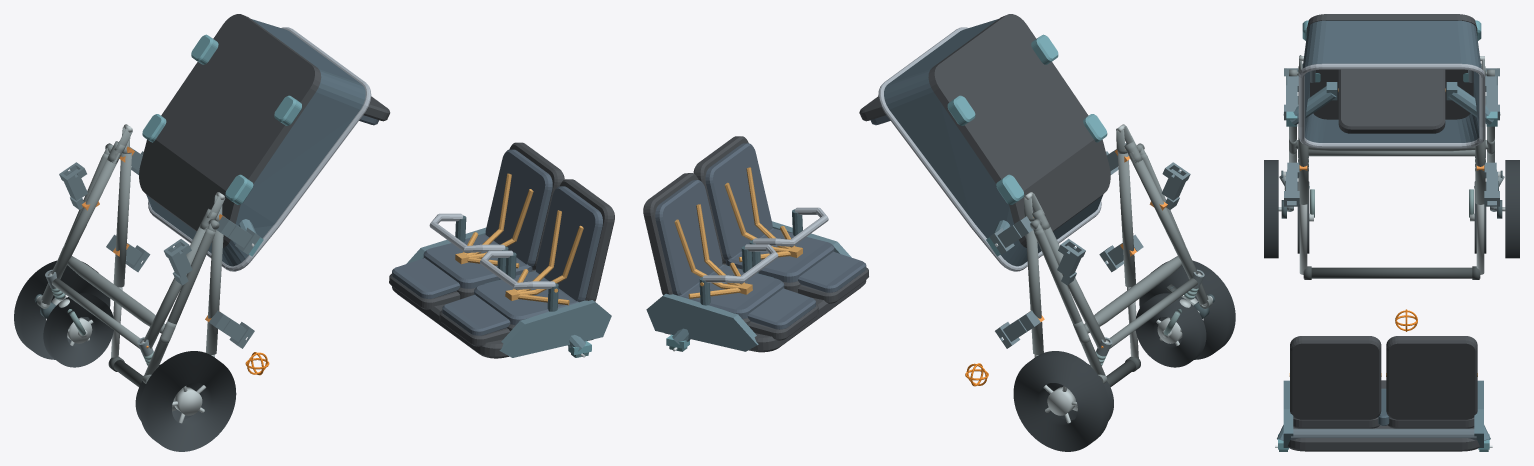
The model's file is D29_w650_state3_wheel_M.glb.
3 views of the same model, side by side, from view 1: azimuth 30°, elevation 25°; view 2: azimuth 150°, elevation 25°; view 3: azimuth 270°, elevation 25° (orthographic). The views are drawn at different scales.
Parts seen in each view (by area): view 1: D29_Lower, D29_Upper, RL_tire.011, FR_tire.011, RR_tire.011, main_upper_1.012, V46_rearbar.011, main_lower_1.012, V46_rear_leg_-1.011, main_upper_-1.012, main_lower_-1.012, front_fixed_round_tube.011 (+5 smaller); view 2: D29_Lower, D29_Upper, RR_tire.011, FL_tire.011, RL_tire.011, main_upper_-1.012, main_lower_-1.012, V46_rearbar.011, V46_rear_leg_1.011, main_upper_1.012, main_lower_1.012, front_fixed_round_tube.011 (+5 smaller); view 3: D29_Lower, D29_Upper, round_handle.013, D29_Lower_Mount_M, RL_tire.011, RR_tire.011, front_fixed_round_tube.011, V46_rearbar.011, main_upper_1.012, main_upper_-1.012, Universal_Cabin_Receiver_H_1, Universal_Cabin_Receiver_H_-1 (+8 smaller).
Part boxes in pixels (<box>): D29_Lower: <box>139,14,390,271</box>; D29_Upper: <box>389,142,614,358</box>; RL_tire.011: <box>139,351,236,451</box>; FR_tire.011: <box>43,293,113,367</box>; RR_tire.011: <box>14,260,110,359</box>; main_upper_1.012: <box>113,153,131,287</box>; V46_rearbar.011: <box>67,256,165,333</box>; main_lower_1.012: <box>51,153,119,279</box>; V46_rear_leg_-1.011: <box>144,228,215,375</box>; main_upper_-1.012: <box>205,221,223,354</box>; main_lower_-1.012: <box>143,227,207,348</box>; front_fixed_round_tube.011: <box>52,278,140,348</box>; D29_Lower: <box>859,14,1110,271</box>; D29_Upper: <box>643,136,868,352</box>; RR_tire.011: <box>1013,351,1109,451</box>; FL_tire.011: <box>1135,293,1206,367</box>; RL_tire.011: <box>1139,260,1235,359</box>; main_upper_-1.012: <box>1117,153,1135,287</box>; main_lower_-1.012: <box>1129,153,1198,279</box>; V46_rearbar.011: <box>1084,256,1182,333</box>; V46_rear_leg_1.011: <box>1034,228,1105,375</box>; main_upper_1.012: <box>1026,221,1043,354</box>; main_lower_1.012: <box>1041,225,1105,348</box>; front_fixed_round_tube.011: <box>1109,278,1197,348</box>; D29_Lower: <box>1298,14,1485,148</box>; D29_Upper: <box>1283,336,1483,451</box>; round_handle.013: <box>1303,267,1480,278</box>; D29_Lower_Mount_M: <box>1283,82,1500,126</box>; RL_tire.011: <box>1264,160,1278,258</box>; RR_tire.011: <box>1505,160,1519,258</box>; front_fixed_round_tube.011: <box>1308,150,1475,156</box>; V46_rearbar.011: <box>1295,140,1488,151</box>; main_upper_1.012: <box>1475,92,1485,204</box>; main_upper_-1.012: <box>1298,92,1308,204</box>; Universal_Cabin_Receiver_H_1: <box>1484,162,1499,206</box>; Universal_Cabin_Receiver_H_-1: <box>1284,162,1299,206</box>.
Bounding box in the file's own units: 1.64 × 1.09 × 0.781.
